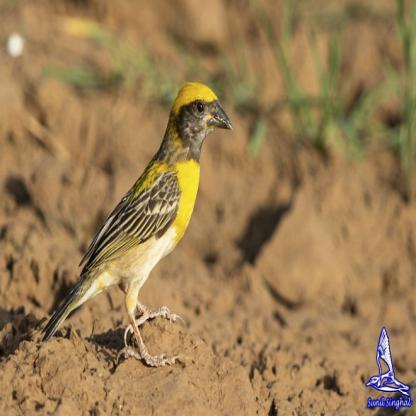Burung: (41, 82, 231, 367)
